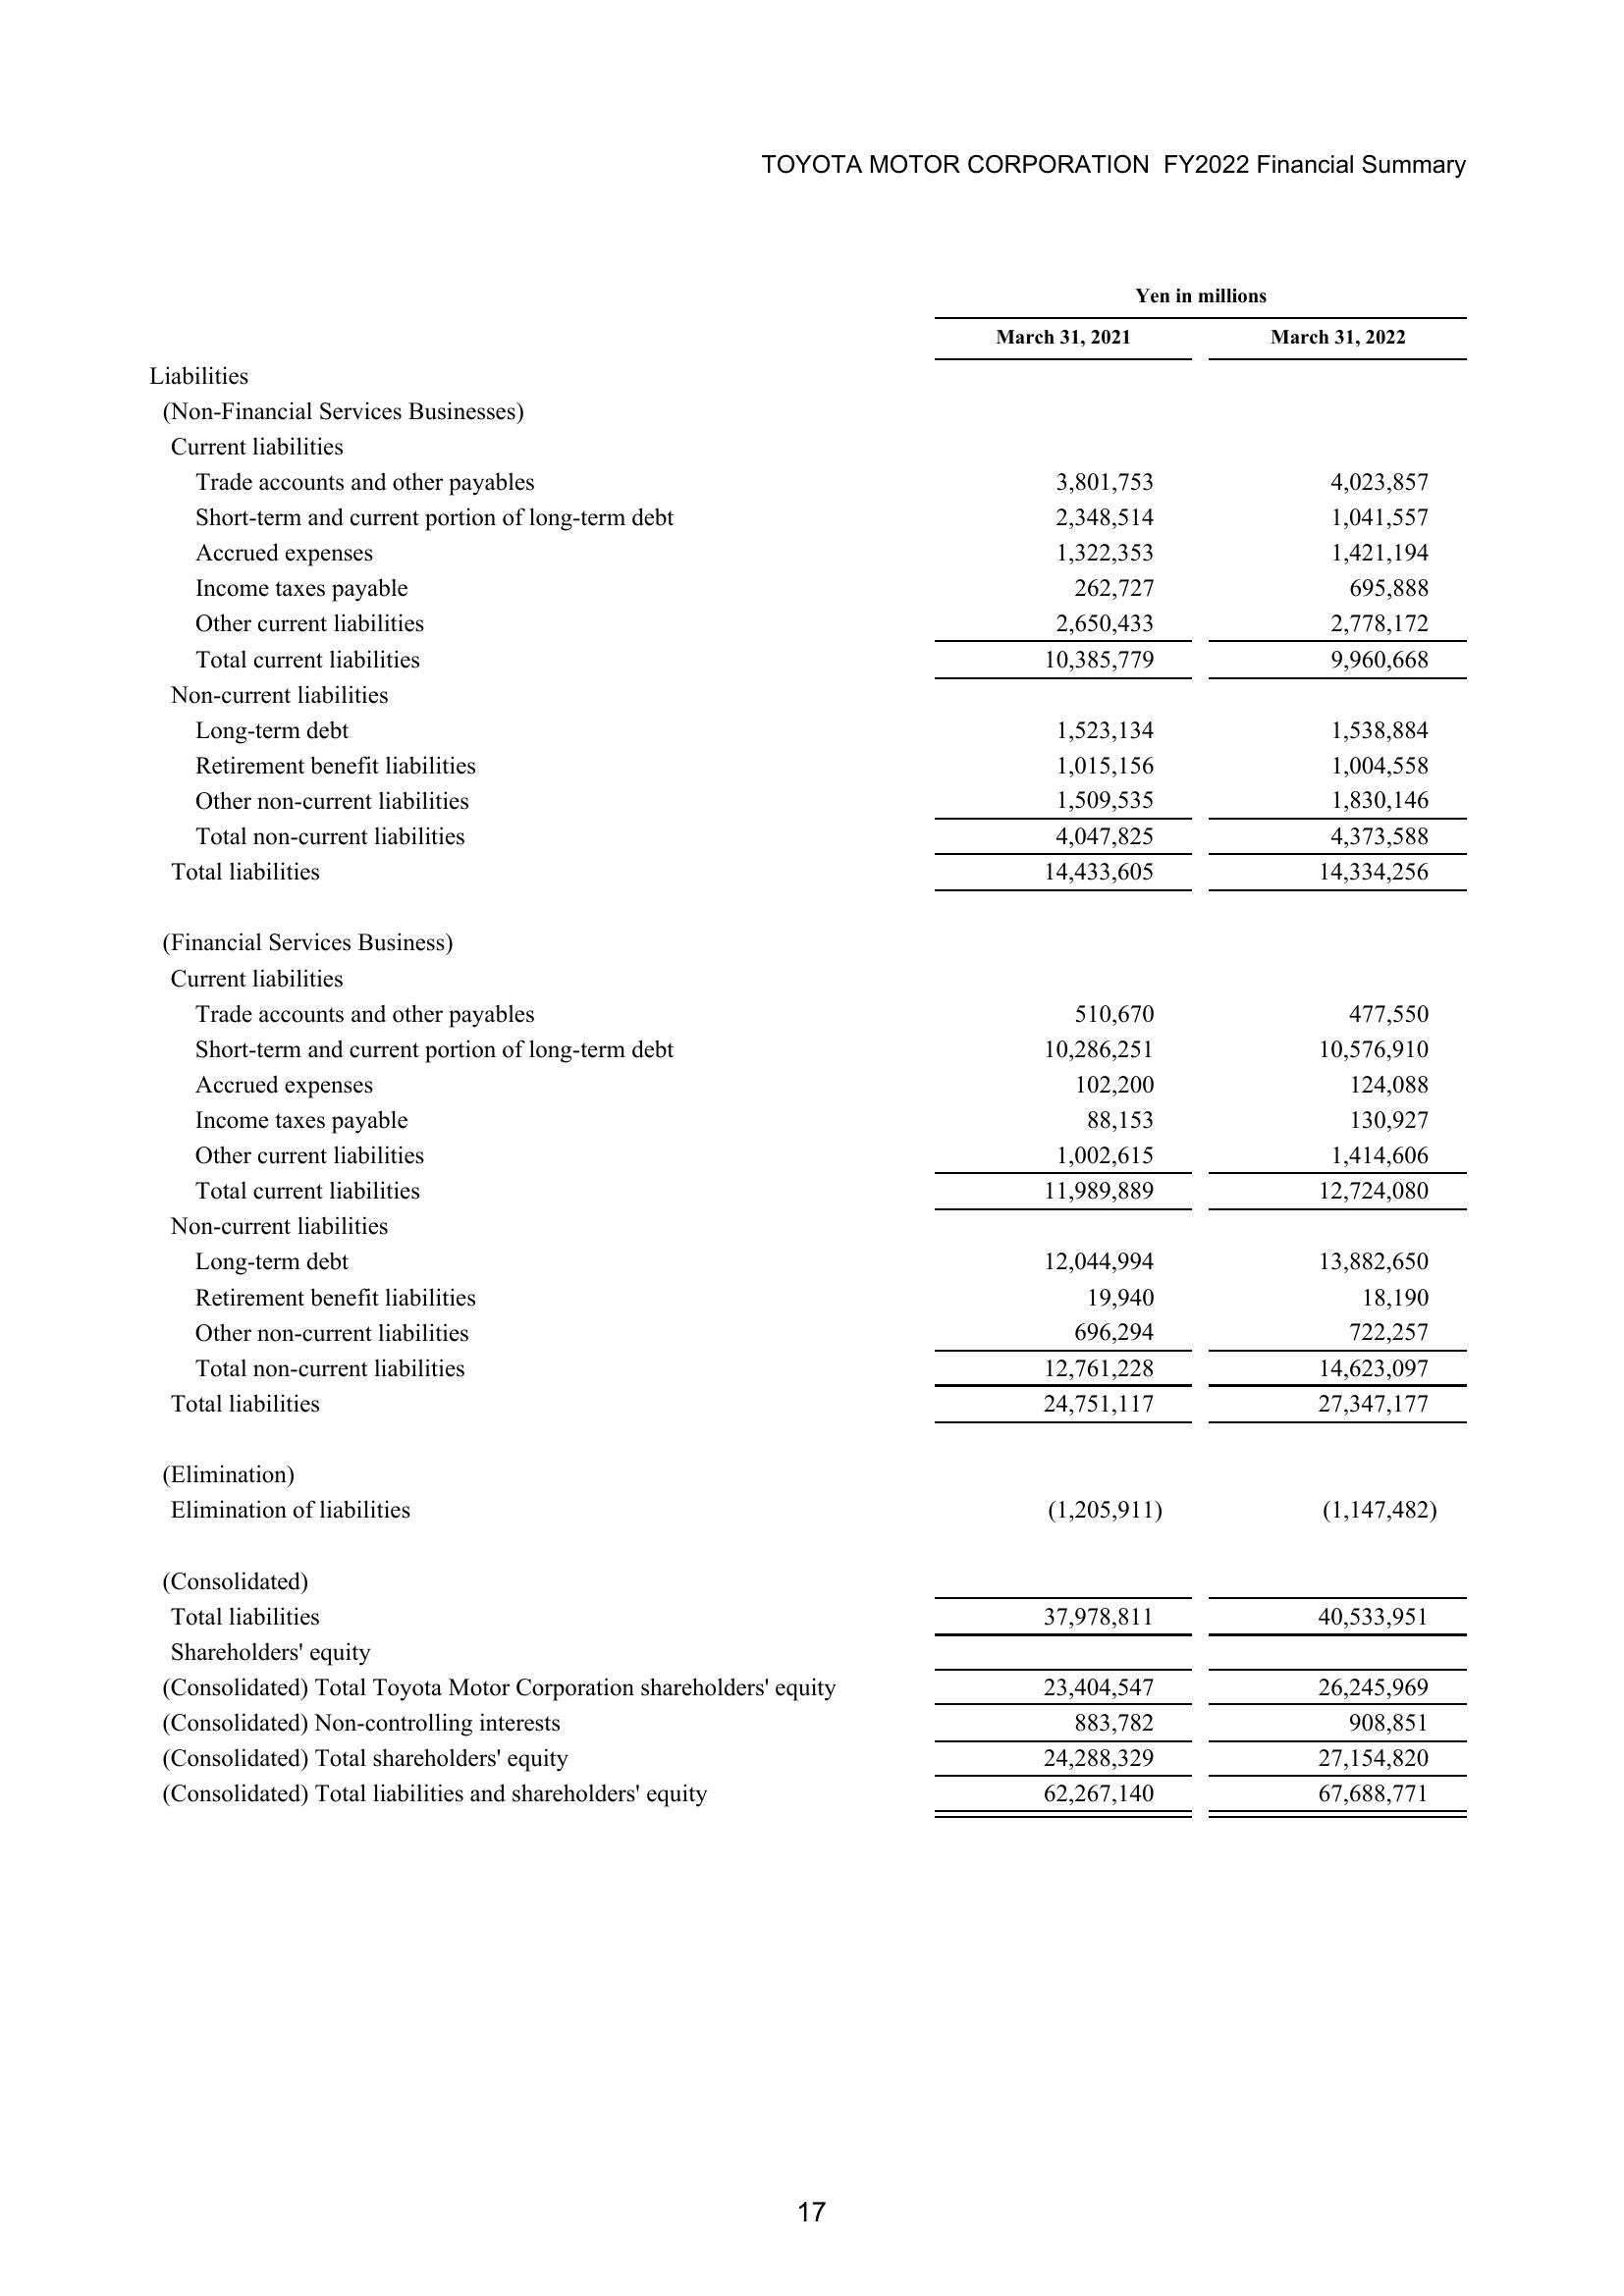Footer: (0, 2180, 1624, 2296)
Header: (0, 0, 1624, 193)
Table: (95, 264, 1478, 1822)
